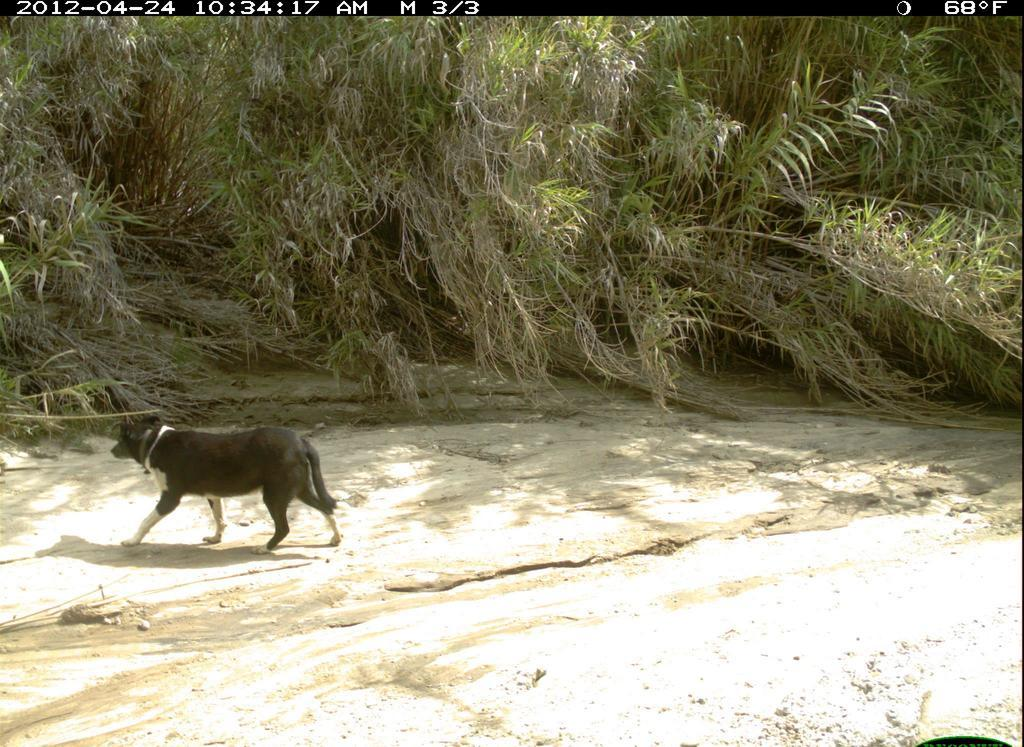dog: (107, 403, 353, 567)
